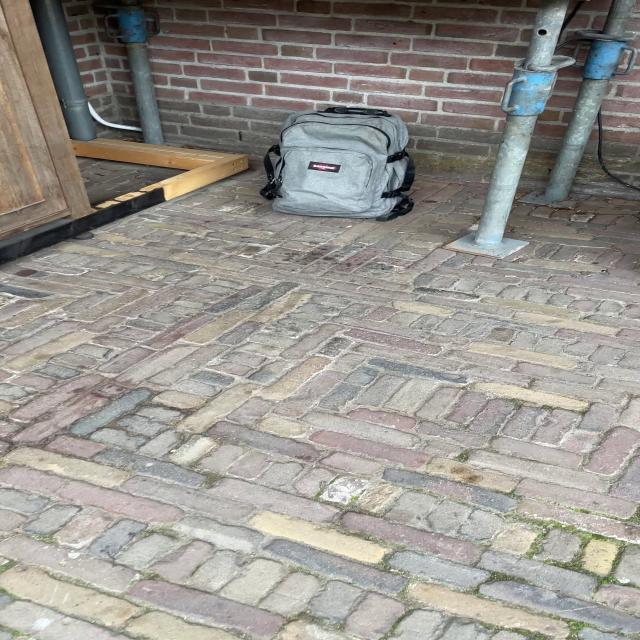backpack: (253, 102, 424, 223)
